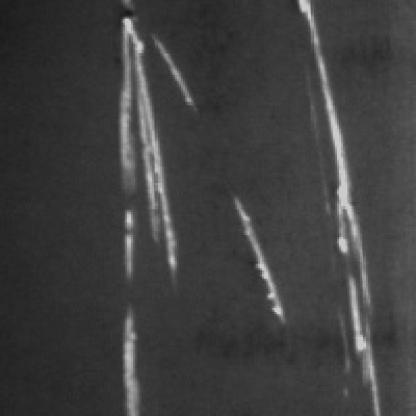scratches: (295, 0, 391, 412), (121, 11, 204, 298), (231, 190, 291, 324), (118, 302, 154, 412)
